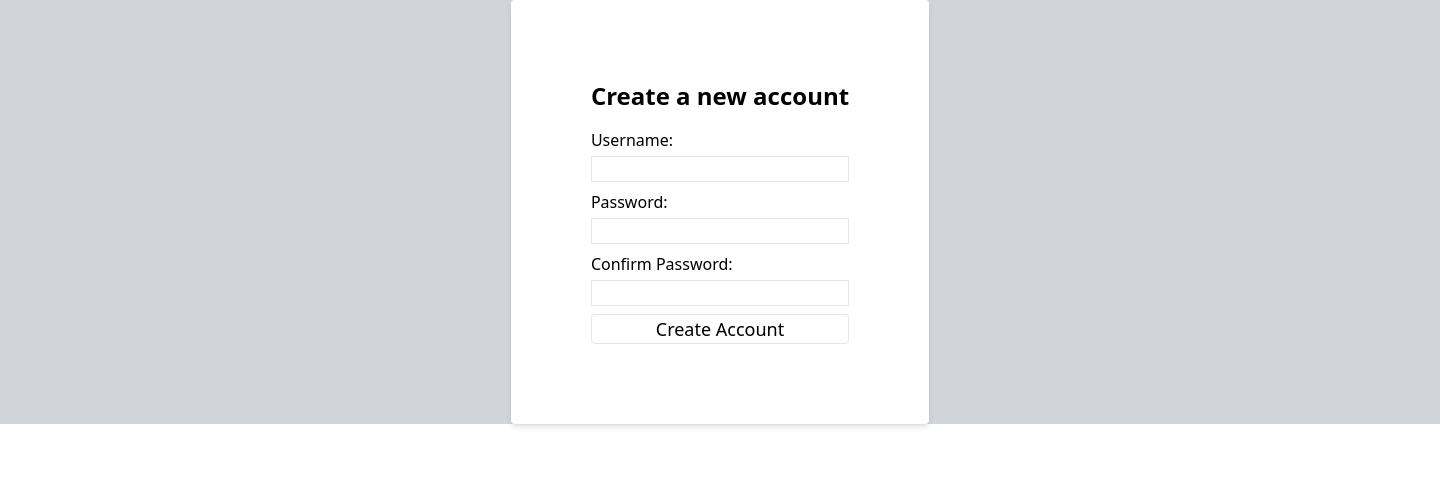
CreateUser form › Rejects unmatching passwords
Type "user" into the field with test id "username-input".
click(720, 169); type("user")  # box [591,156,849,182]
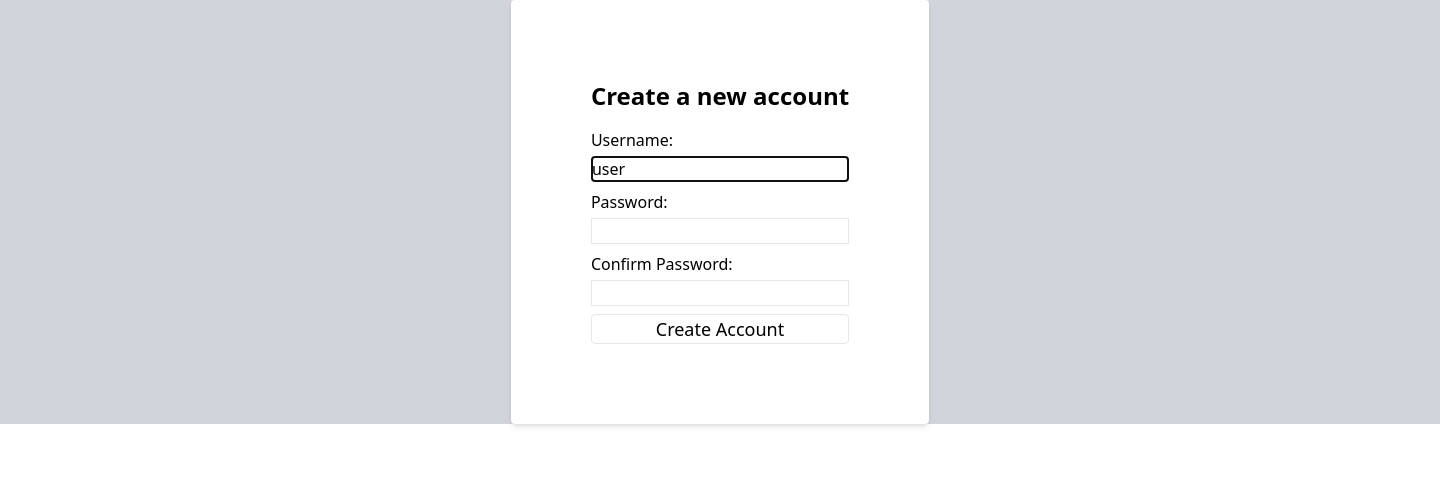
Type "password" into the password field with test id "password-input".
click(720, 231); type("password")  # box [591,218,849,244]
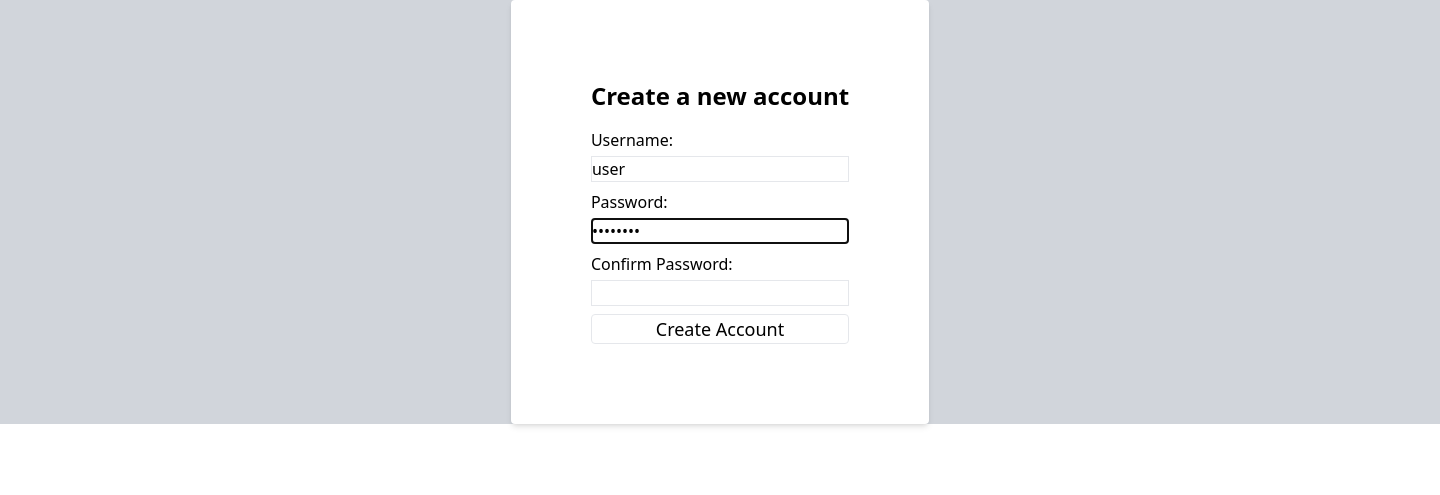
Type "password1" into the password field with test id "confirm-password-input".
click(720, 293); type("password1")  # box [591,280,849,306]
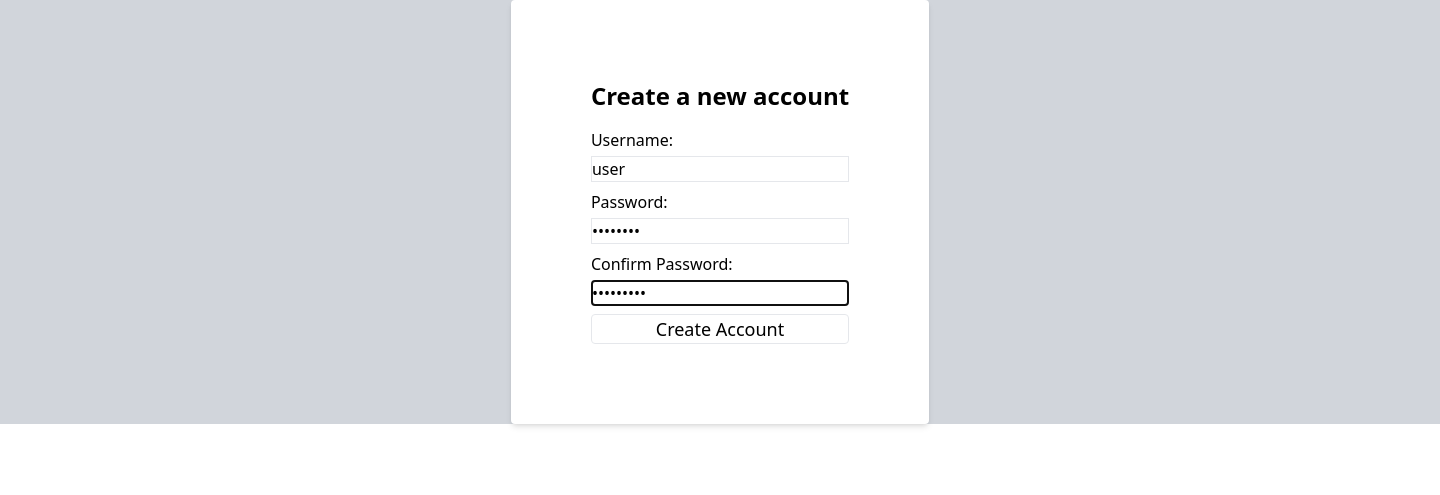
# click the submit button
Click the button with test id "submit-button".
click(720, 329)  # box [591,314,849,344]
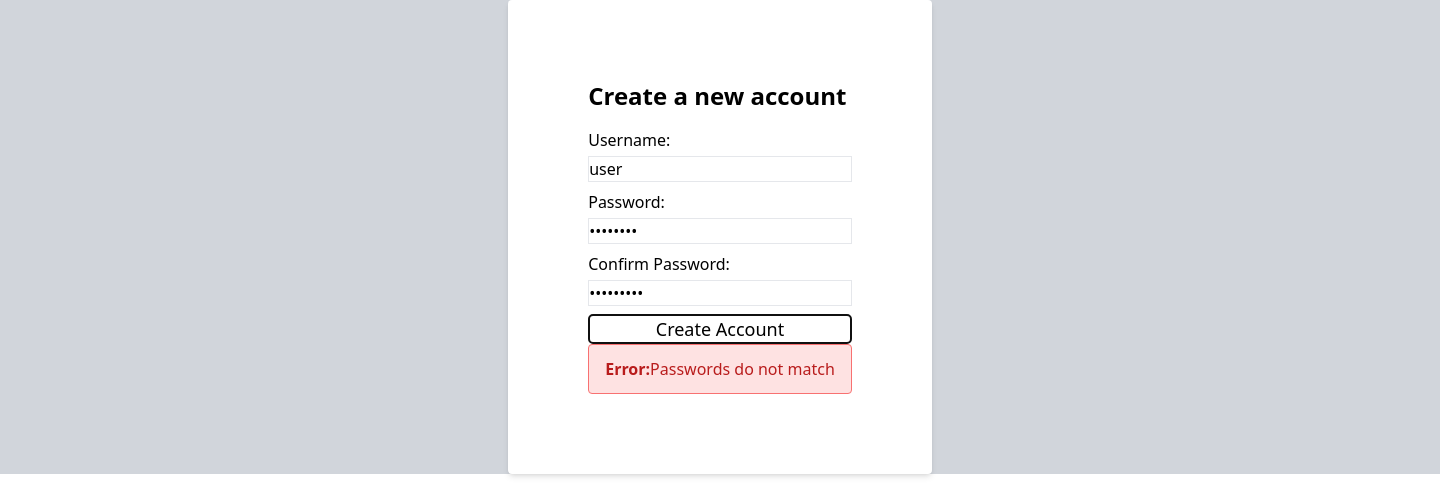
Expected: the text "Passwords do not match" is shown, [650,358,835,380]
